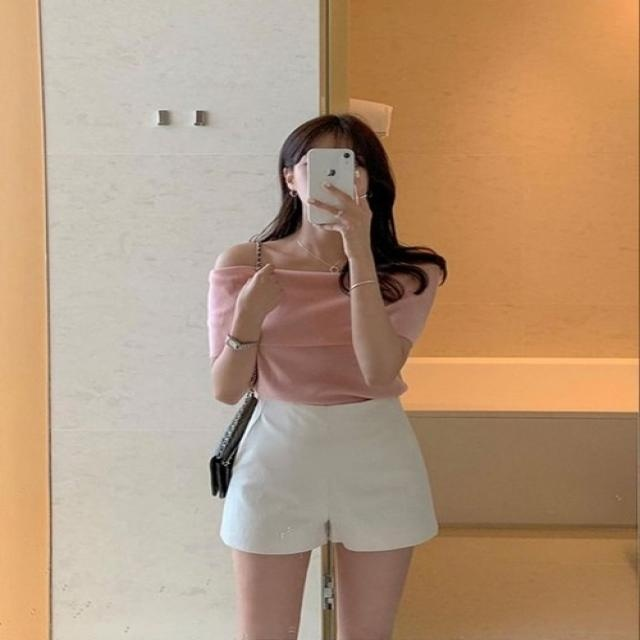Shorts: (216, 395, 439, 640)
Sleeveless: (212, 240, 260, 271)
